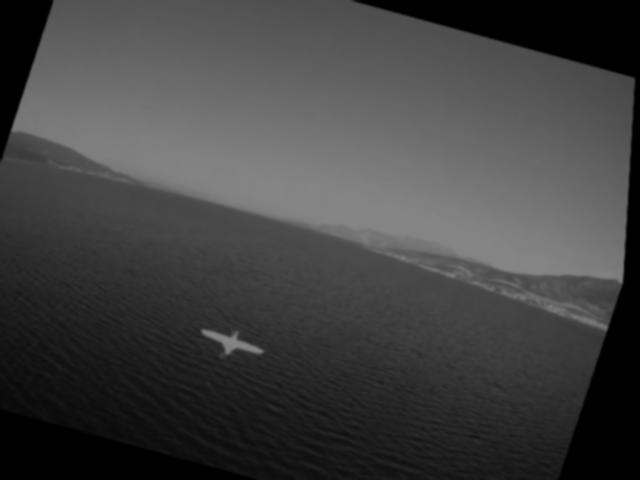hedef: (188, 313, 283, 378)
